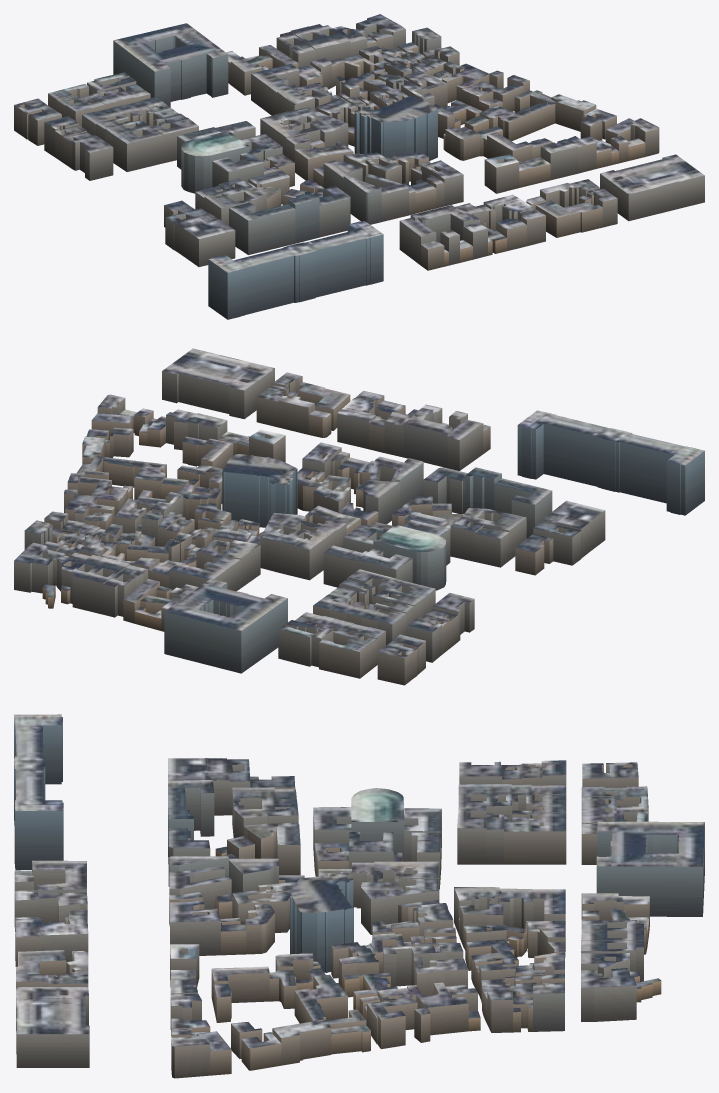
The picture shows the model from 3 angles, top to bottom: view 1: azimuth 30°, elevation 25°; view 2: azimuth 150°, elevation 25°; view 3: azimuth 270°, elevation 25°; orthographic projection. The views are drawn at different scales.
Bounding box in the file's own units: 429 × 39.96 × 411.
Materials: 2 (2 with a texture image).
